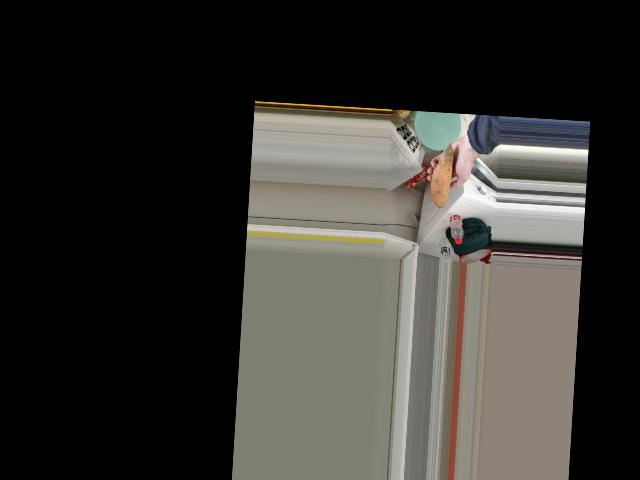sweet_potato: (429, 145, 454, 202)
